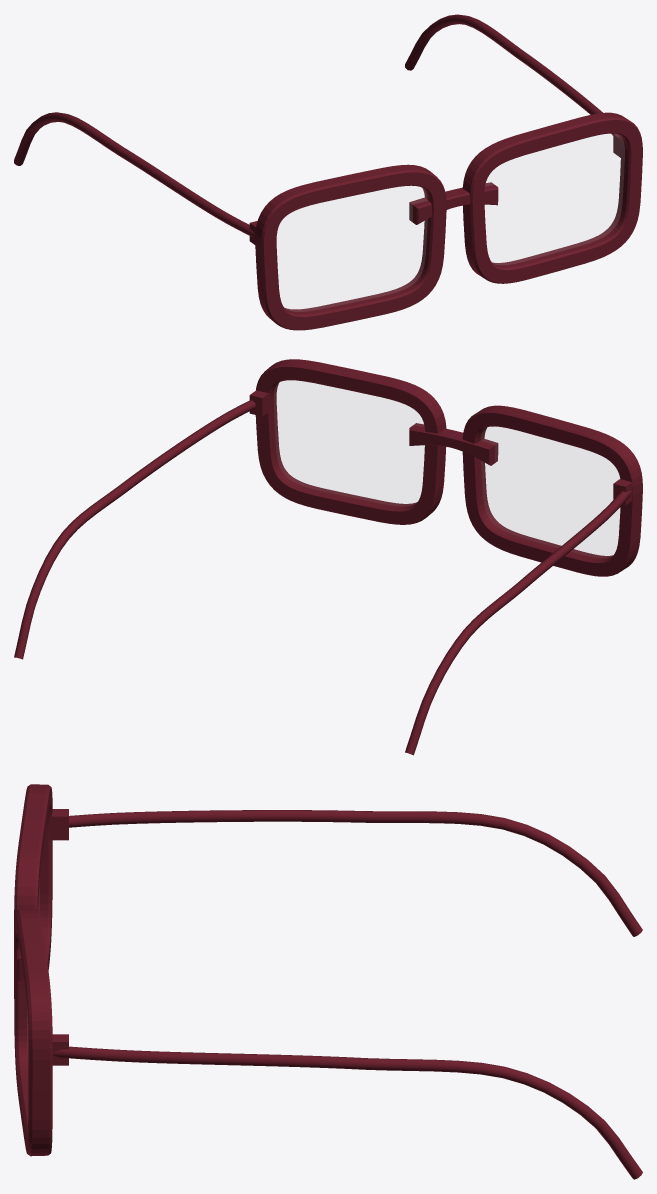
Rendered from NY-W09_Uma_Burgundy.glb.
The picture shows the model from 3 angles, top to bottom: view 1: azimuth 30°, elevation 25°; view 2: azimuth 150°, elevation 25°; view 3: azimuth 270°, elevation 25°; orthographic projection. The views are drawn at different scales.
Visible parts, largest first — view 1: Uma_Burgundy_Acetate, Uma_Burgundy_Lenses; view 2: Uma_Burgundy_Acetate, Uma_Burgundy_Lenses; view 3: Uma_Burgundy_Acetate.
Boxes of the visible parts, x1=… form: Uma_Burgundy_Acetate: x1=14, y1=14, x2=642, y2=330; Uma_Burgundy_Lenses: x1=277, y1=134, x2=623, y2=311; Uma_Burgundy_Acetate: x1=14, y1=359, x2=642, y2=755; Uma_Burgundy_Lenses: x1=274, y1=381, x2=619, y2=557; Uma_Burgundy_Acetate: x1=14, y1=784, x2=642, y2=1179.
Size of the model in its own units: 0.1415 by 0.0465 by 0.1481.
